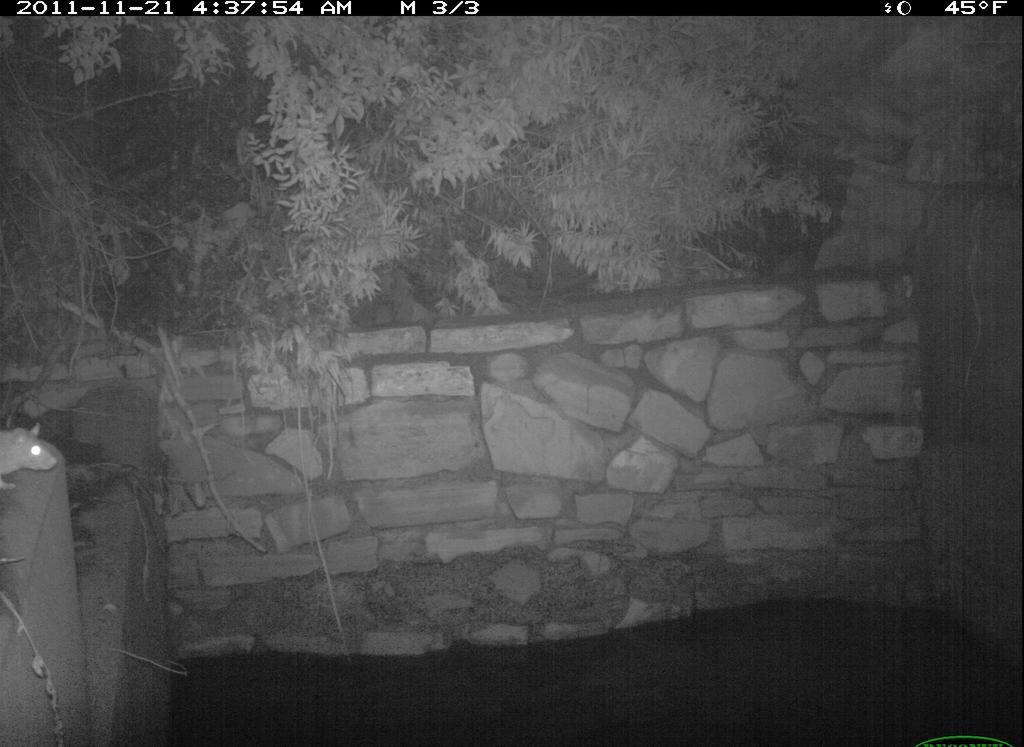rodent: (2, 404, 71, 507)
